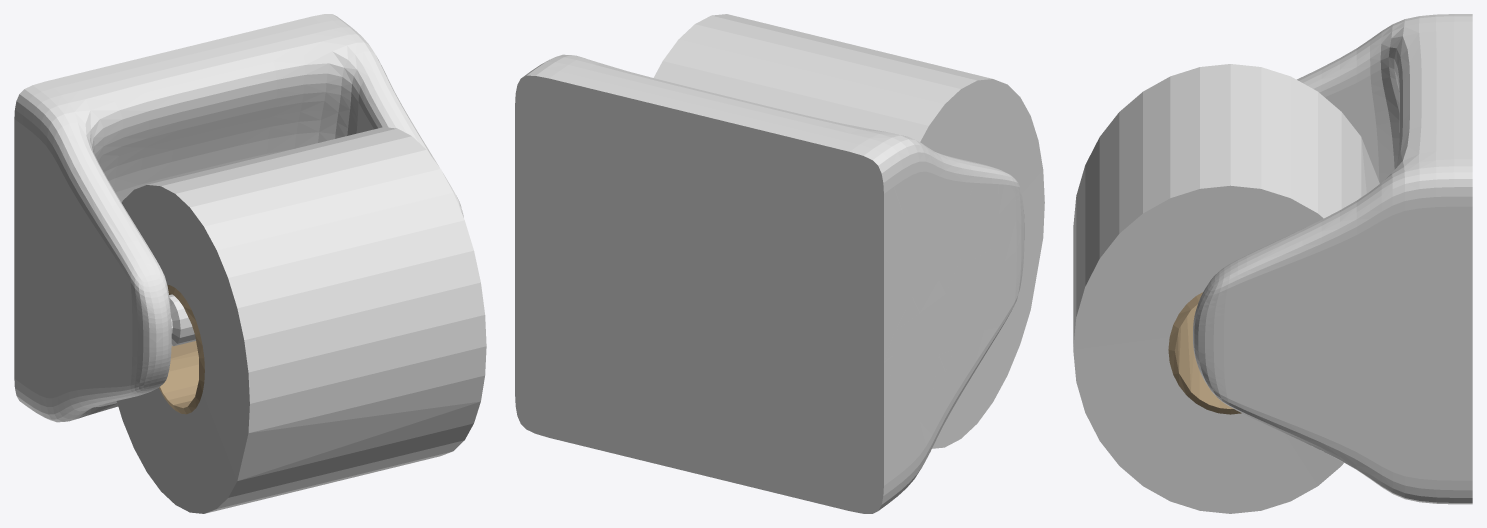
The model's file is sh-kl-bathroom-tissue.glb.
3 views of the same model, side by side, from view 1: azimuth 30°, elevation 25°; view 2: azimuth 150°, elevation 25°; view 3: azimuth 270°, elevation 25° (orthographic). The views are drawn at different scales.
Parts seen in each view (by area): view 1: Toilet_paper_Toilet_paper_paper, ceramic_holder, Toilet_paper_Toilet_paper_Cardboard, spindle; view 2: ceramic_holder, Toilet_paper_Toilet_paper_paper; view 3: ceramic_holder, Toilet_paper_Toilet_paper_paper, Toilet_paper_Toilet_paper_Cardboard.
Boxes of the visible parts, x1,y1,x2,y2 form: Toilet_paper_Toilet_paper_paper: (116,127,486,513); ceramic_holder: (14,14,463,422); Toilet_paper_Toilet_paper_Cardboard: (159,284,204,414); spindle: (169,294,195,346); ceramic_holder: (515,54,1024,513); Toilet_paper_Toilet_paper_paper: (653,14,1044,448); ceramic_holder: (1193,14,1472,504); Toilet_paper_Toilet_paper_paper: (1073,64,1379,513); Toilet_paper_Toilet_paper_Cardboard: (1168,292,1241,414).
Size of the model in its own units: 1 by 1 by 1.
